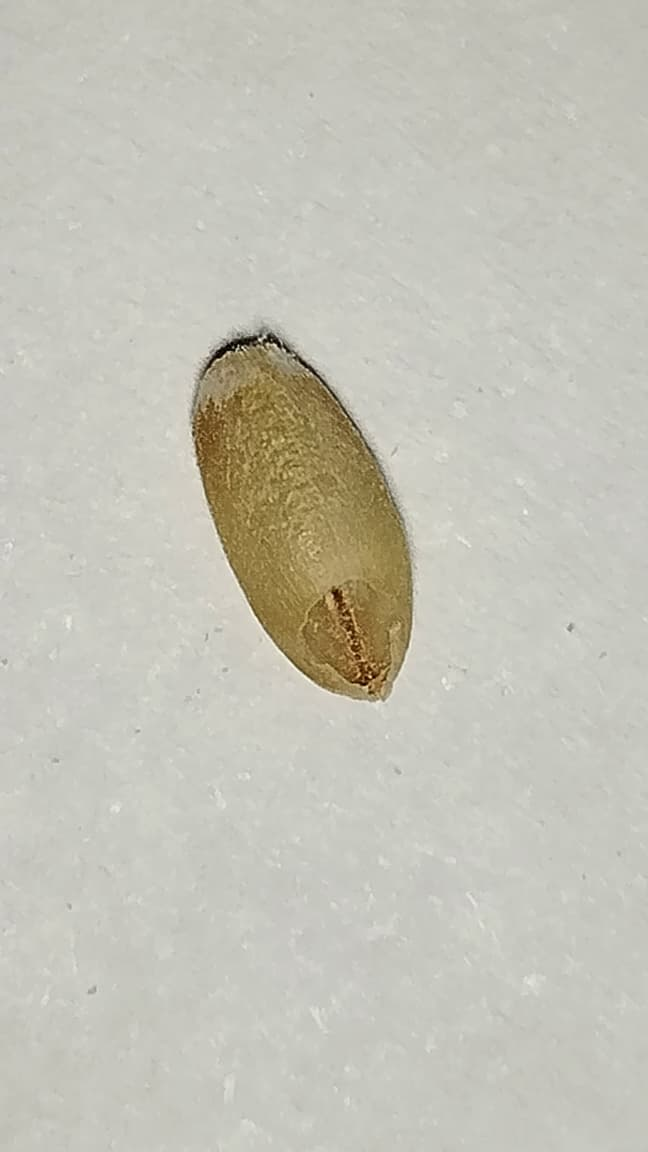damage: (192, 335, 413, 699)
insectdamage: (302, 579, 411, 692)
